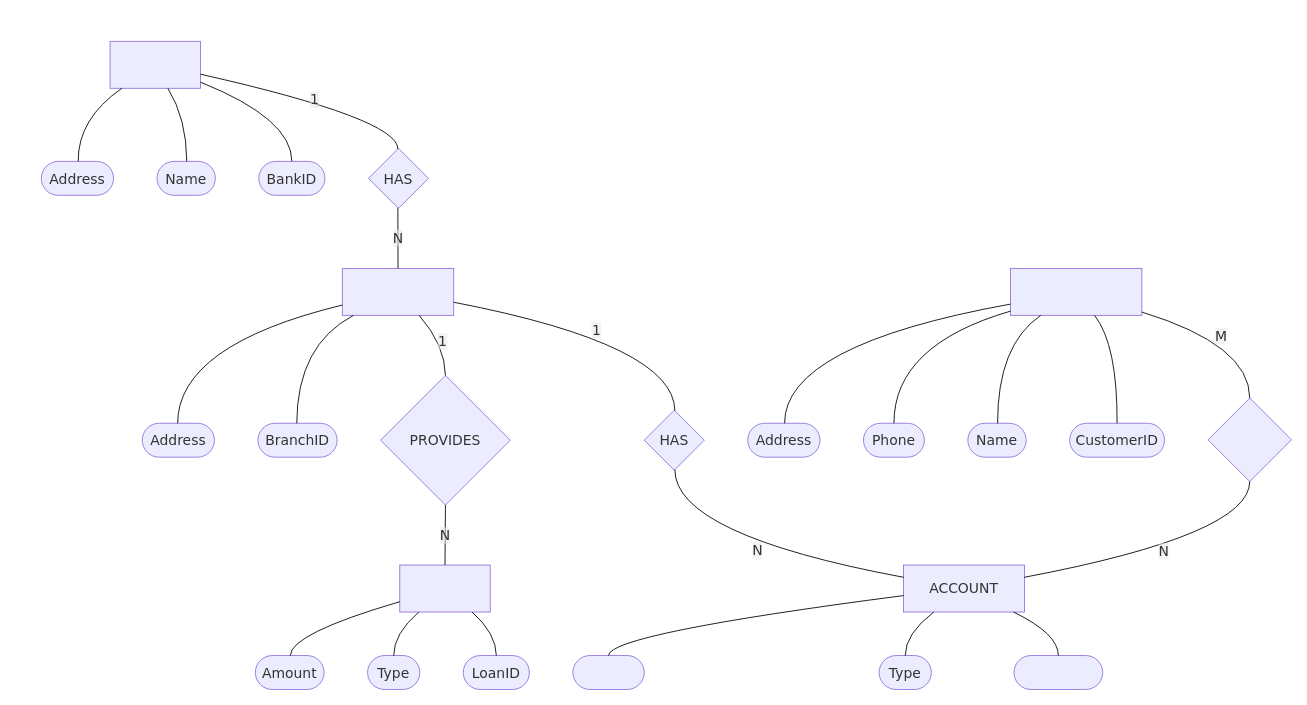
This 1307x705 diagram has some shape labels left out. The shapes that lost their labels are listed below. From the top down, each one's box as (x1, y1, x2, y2) in pixels, then its label:
(109, 40, 201, 88): BANK
(341, 268, 454, 315): BRANCH
(1010, 268, 1142, 315): CUSTOMER
(1207, 397, 1292, 482): OWNS
(399, 564, 490, 612): LOAN
(572, 655, 644, 689): Balance
(1013, 655, 1103, 689): AccountNo
